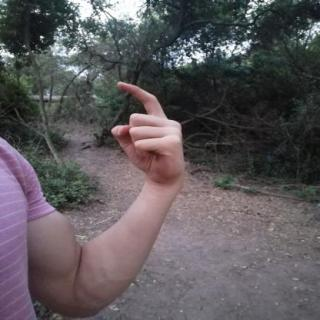RAA: (105, 75, 193, 188)
